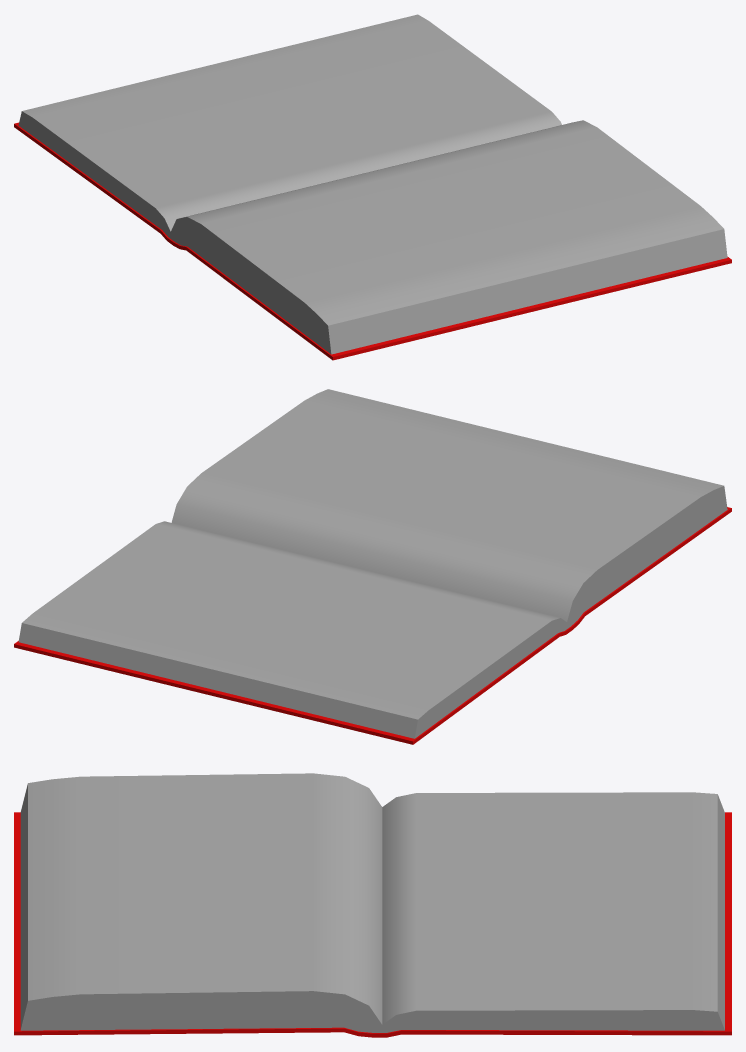
The model's file is BookOpen.fbx.
The picture shows the model from 3 angles, top to bottom: view 1: azimuth 30°, elevation 25°; view 2: azimuth 150°, elevation 25°; view 3: azimuth 270°, elevation 25°; orthographic projection. The views are drawn at different scales.
Visible parts, largest first — view 1: pCube2, pCube1; view 2: pCube2, pCube1; view 3: pCube2, pCube1.
Part boxes in pixels (bbox=[...]): pCube2: bbox=[18, 14, 727, 354]; pCube1: bbox=[14, 122, 731, 360]; pCube2: bbox=[18, 389, 727, 738]; pCube1: bbox=[14, 507, 731, 744]; pCube2: bbox=[20, 773, 724, 1032]; pCube1: bbox=[14, 812, 731, 1037].
Bounding box in the file's own units: 12.49 × 1.21 × 17.28.
